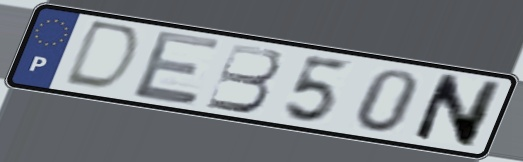0: (353, 67, 419, 134)
5: (279, 52, 358, 125)
B: (202, 41, 284, 115)
D: (57, 18, 146, 95)
E: (129, 27, 225, 107)
N: (407, 70, 507, 150)
